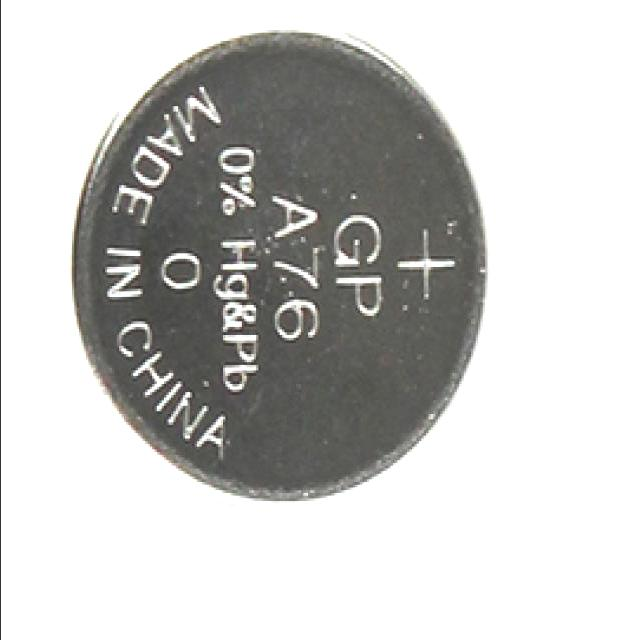COIN: (59, 13, 491, 514)
